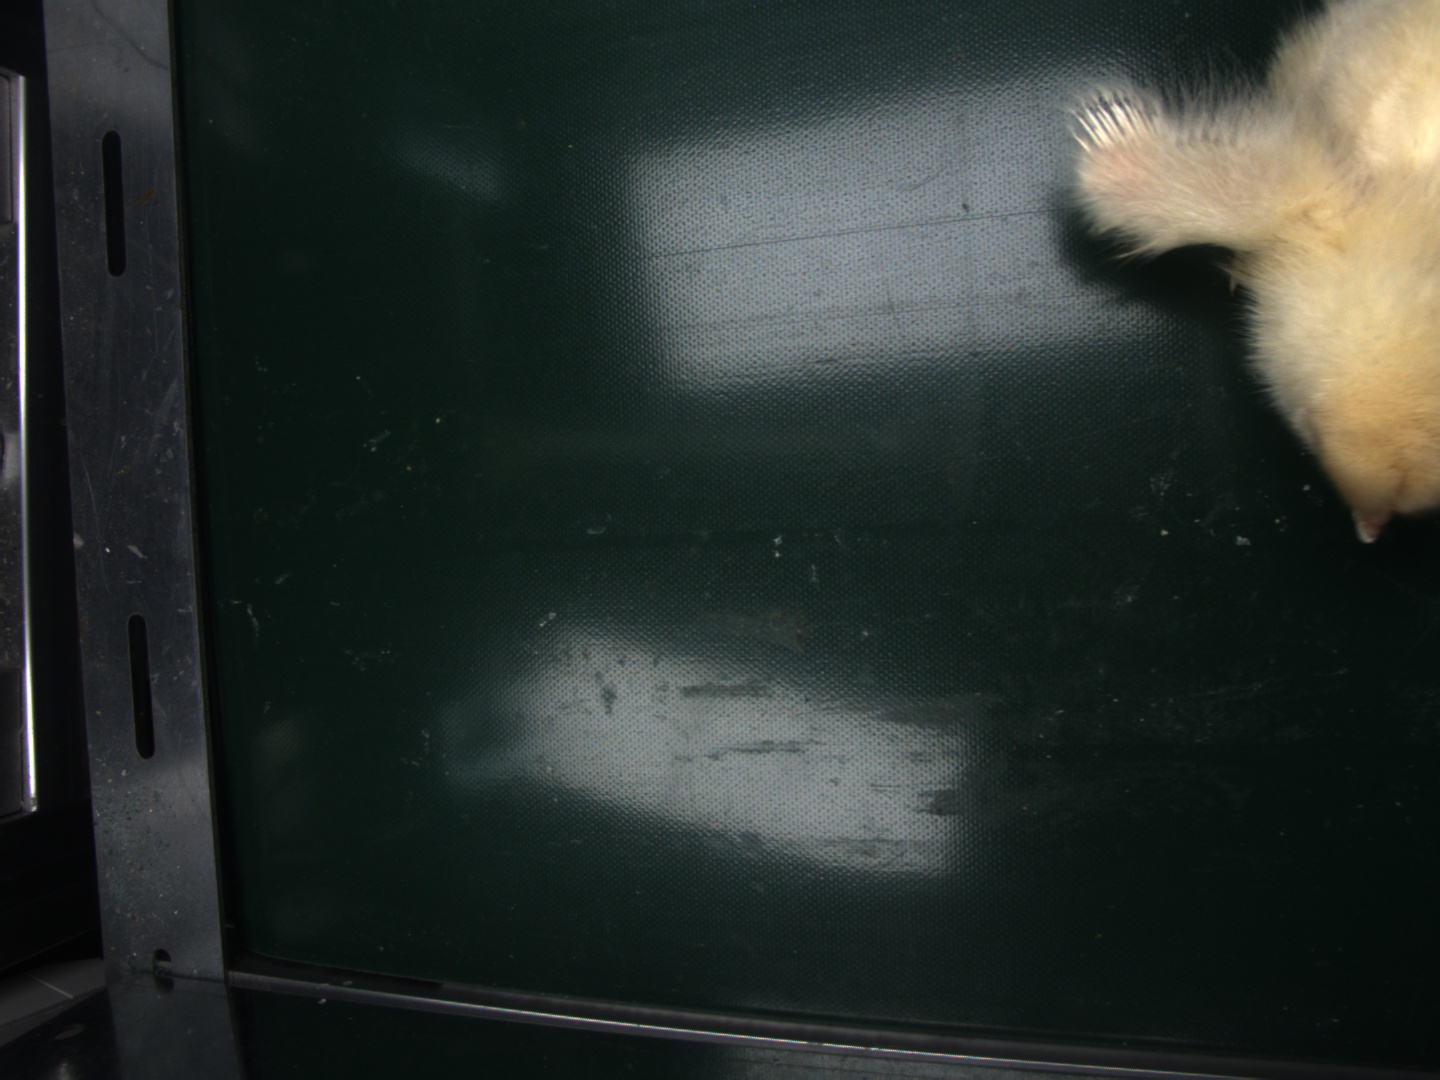male: (1076, 98, 1157, 160)
